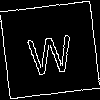W: (25, 25, 75, 77)
